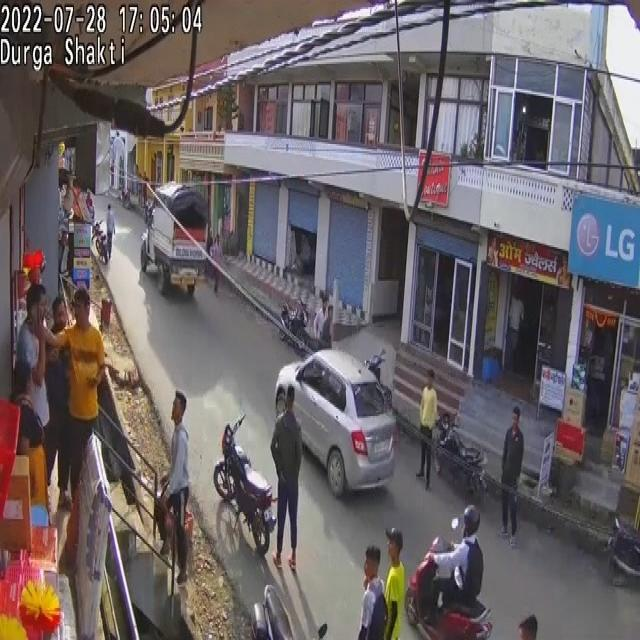non-fight: (45, 290, 124, 508), (15, 286, 66, 444), (424, 507, 484, 616), (157, 388, 190, 586), (270, 384, 303, 568), (500, 406, 524, 546), (357, 544, 388, 640), (382, 528, 406, 640), (417, 368, 438, 490), (165, 422, 190, 501), (315, 292, 333, 348), (210, 235, 223, 297), (105, 202, 115, 260)
